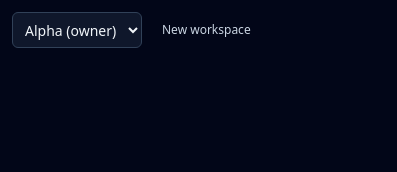
WorkspaceSwitcher › switches to the selected workspace
Select "Beta (editor)" in the dropdown at (77, 30), box [12, 12, 142, 48]
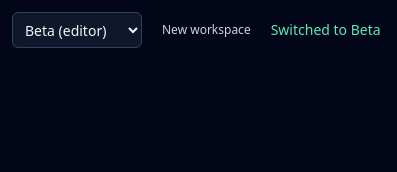
Expected: the text "Switched to Beta" is shown, [271, 20, 381, 40]
